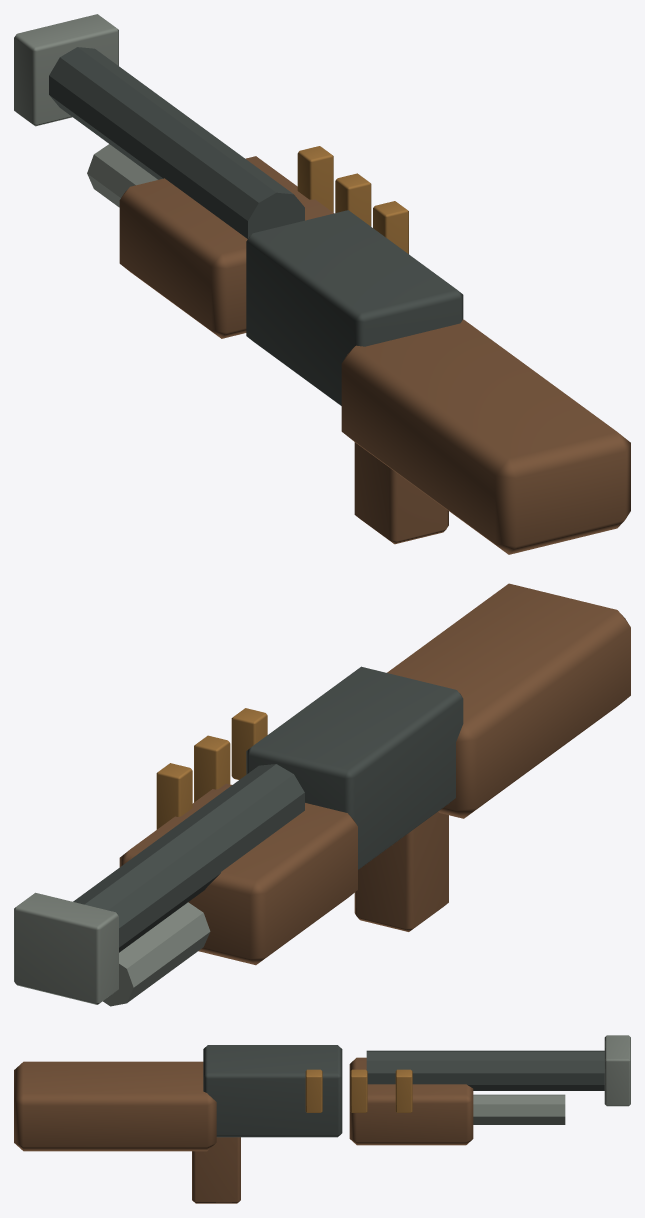
The model's file is shotgun.glb.
3 renders of one model, top to bottom at view 1: azimuth 30°, elevation 25°; view 2: azimuth 150°, elevation 25°; view 3: azimuth 270°, elevation 25°, orthographic. The views are drawn at different scales.
Parts seen in each view (by area): view 1: broad butt stock, shotgun receiver, heavy barrel, wide pump, muzzle ring, grip, underslung tube, shell band.002, shell band.001, shell band; view 2: broad butt stock, shotgun receiver, wide pump, heavy barrel, muzzle ring, grip, underslung tube, shell band.001, shell band.002, shell band; view 3: broad butt stock, shotgun receiver, heavy barrel, wide pump, grip, underslung tube, muzzle ring, shell band, shell band.001, shell band.002.
Part boxes in pixels (x1=…): broad butt stock: x1=341, y1=319, x2=630, y2=554; shotgun receiver: x1=246, y1=210, x2=463, y2=405; heavy barrel: x1=49, y1=47, x2=304, y2=238; wide pump: x1=119, y1=156, x2=333, y2=338; muzzle ring: x1=14, y1=14, x2=118, y2=126; grip: x1=354, y1=442, x2=448, y2=544; underslung tube: x1=87, y1=144, x2=157, y2=207; shell band.002: x1=297, y1=146, x2=333, y2=212; shell band.001: x1=335, y1=173, x2=371, y2=226; shell band: x1=373, y1=201, x2=408, y2=253; broad butt stock: x1=387, y1=583, x2=630, y2=818; shotgun receiver: x1=246, y1=666, x2=463, y2=869; wide pump: x1=119, y1=783, x2=357, y2=965; heavy barrel: x1=73, y1=764, x2=304, y2=952; muzzle ring: x1=14, y1=892, x2=118, y2=1004; grip: x1=354, y1=812, x2=448, y2=931; underslung tube: x1=103, y1=902, x2=210, y2=1006; shell band.001: x1=194, y1=735, x2=230, y2=802; shell band.002: x1=156, y1=763, x2=192, y2=829; shell band: x1=231, y1=708, x2=267, y2=779; broad butt stock: x1=14, y1=1061, x2=216, y2=1151; shotgun receiver: x1=203, y1=1045, x2=342, y2=1137; heavy barrel: x1=366, y1=1050, x2=604, y2=1090; wide pump: x1=349, y1=1057, x2=473, y2=1145; grip: x1=192, y1=1137, x2=240, y2=1203; underslung tube: x1=473, y1=1094, x2=565, y2=1124; muzzle ring: x1=604, y1=1035, x2=630, y2=1106; shell band: x1=305, y1=1069, x2=322, y2=1112; shell band.001: x1=350, y1=1069, x2=367, y2=1112; shell band.002: x1=395, y1=1069, x2=412, y2=1112.
Size of the model in its own units: 0.207 by 0.3168 by 1.18.
